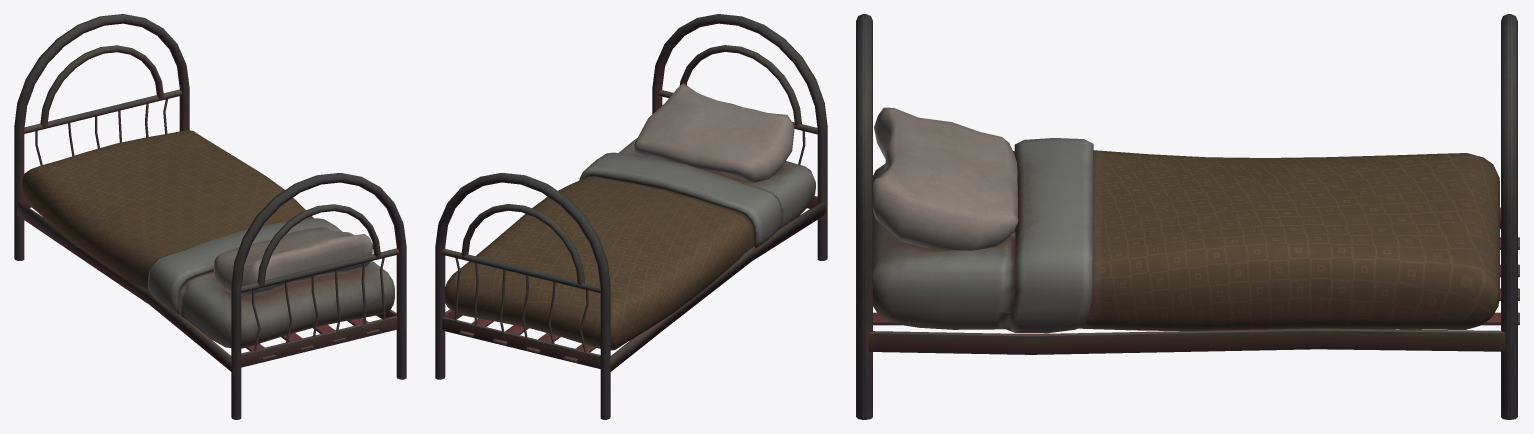
Rendered from obj_bed_3d118a.glb.
3 views of the same model, side by side, from view 1: azimuth 30°, elevation 25°; view 2: azimuth 150°, elevation 25°; view 3: azimuth 270°, elevation 25° (orthographic). The views are drawn at different scales.
Parts seen in each view (by area): view 1: obj_bed_3d118a; view 2: obj_bed_3d118a; view 3: obj_bed_3d118a.
Part boxes in pixels (bbox=[...]): obj_bed_3d118a: bbox=[14, 14, 406, 419]; obj_bed_3d118a: bbox=[435, 14, 827, 419]; obj_bed_3d118a: bbox=[856, 14, 1519, 419].
Size of the model in its own units: 1 by 1.15 by 2.1.
4 materials, 4 textured.
